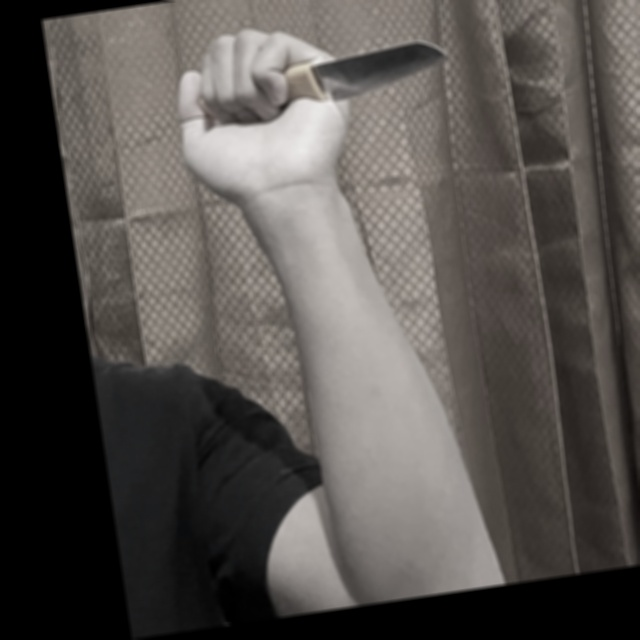Sharp-Object: (193, 33, 456, 125)
